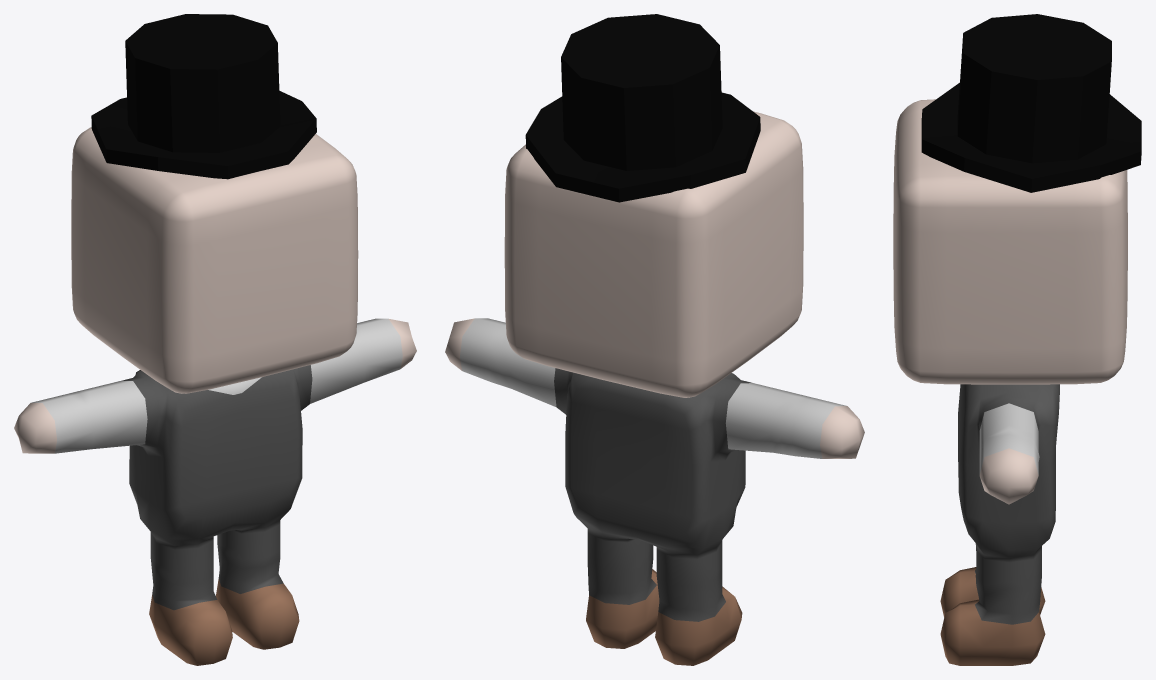
Rendered from sp-character.fbx.
3 renders of one model, left to right at view 1: azimuth 30°, elevation 25°; view 2: azimuth 150°, elevation 25°; view 3: azimuth 270°, elevation 25°, orthographic. The views are drawn at different scales.
Visible parts, largest first — view 1: humanoid_base_base, humanoid_base_top_hat; view 2: humanoid_base_base, humanoid_base_top_hat; view 3: humanoid_base_base, humanoid_base_top_hat.
Part boxes in pixels (x1,y1,x2,y2): humanoid_base_base: [14, 127, 416, 665]; humanoid_base_top_hat: [91, 14, 316, 179]; humanoid_base_base: [445, 111, 864, 665]; humanoid_base_top_hat: [525, 14, 760, 202]; humanoid_base_base: [893, 99, 1127, 665]; humanoid_base_top_hat: [921, 14, 1141, 192].
Bounding box in the file's own units: 2.96 × 4.2 × 1.59.
